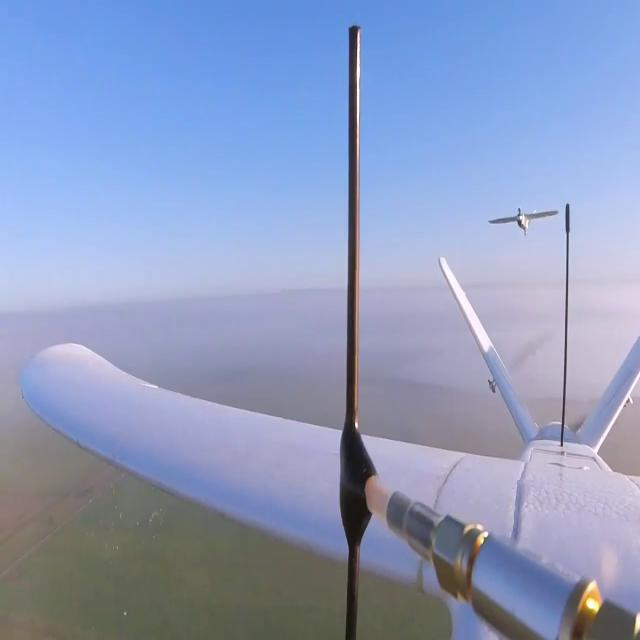iha: (516, 209, 520, 239)
